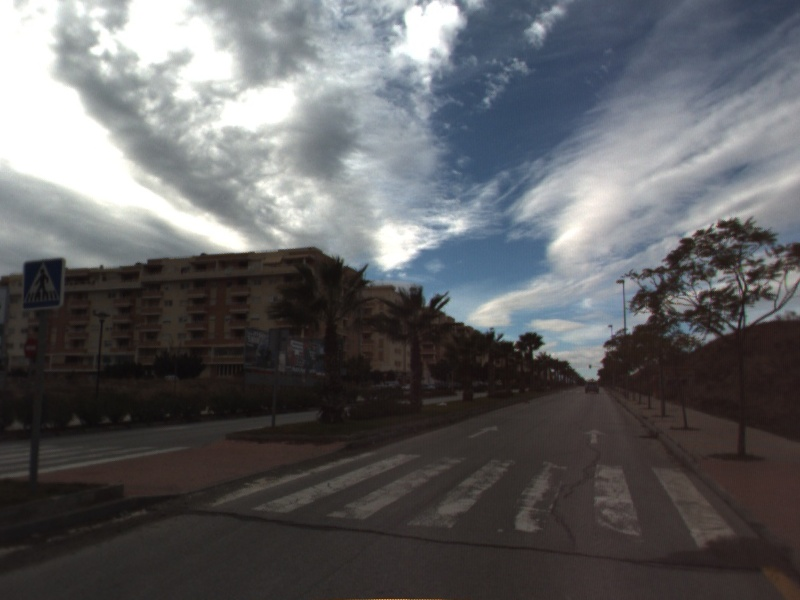STRAIGHT: (466, 423, 500, 440), (582, 427, 608, 445)
